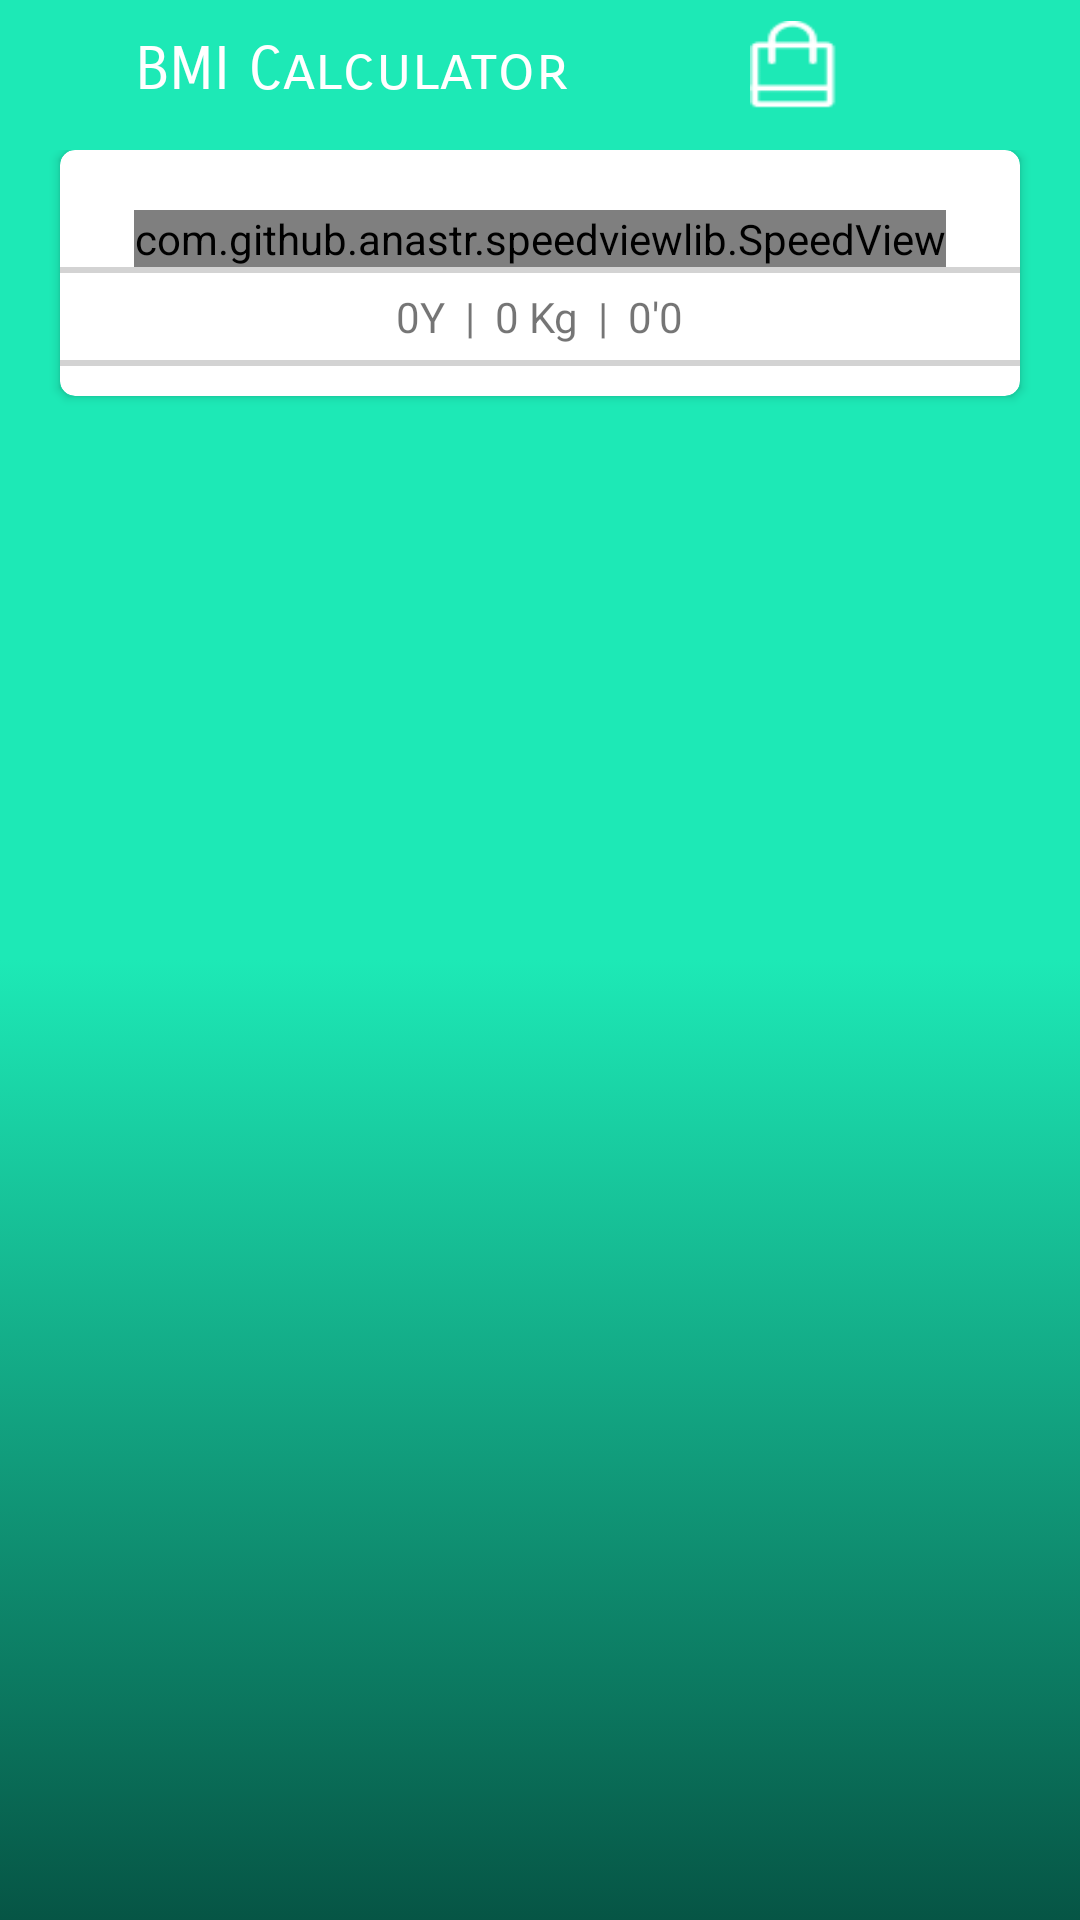

Icon bounding boxes for this 1080w x 1920h phone screenshot, format (x1, y1, x2, y2):
storeicon: (750, 21, 836, 108)
